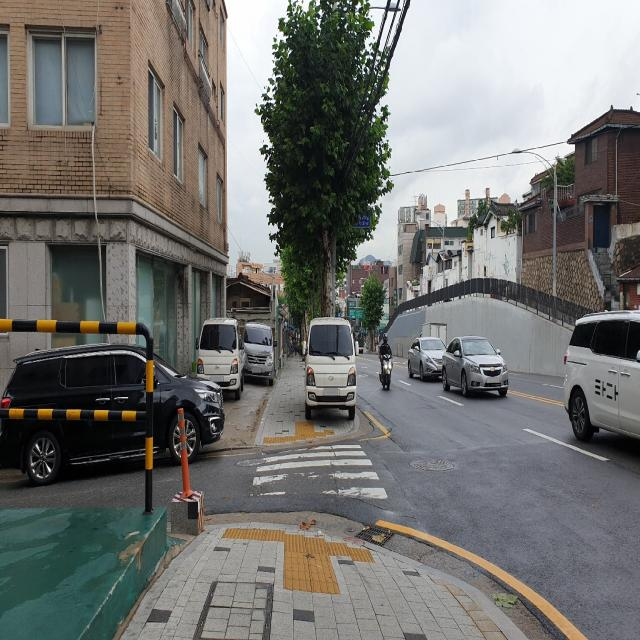car: (0, 344, 225, 484), (560, 317, 639, 461), (305, 318, 357, 422), (194, 318, 244, 400), (442, 336, 508, 398), (236, 323, 274, 381), (408, 337, 448, 380)
motorbike: (379, 354, 392, 391)
